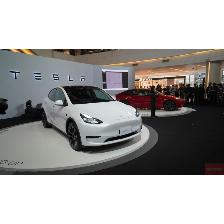EV: (42, 86, 144, 153)
